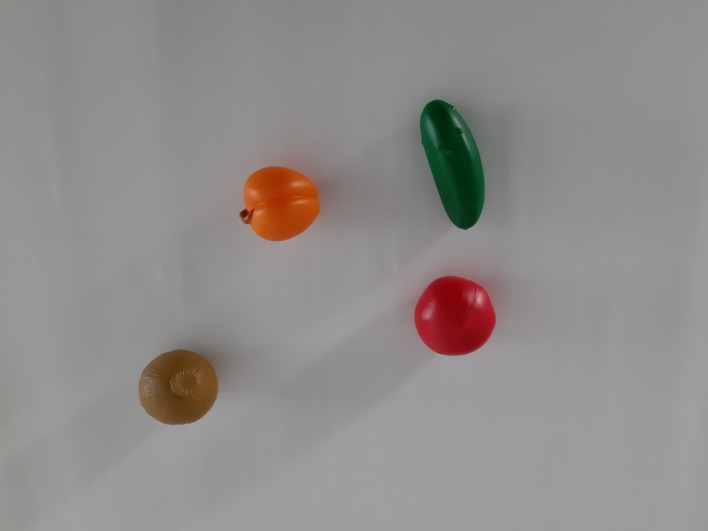apricot: (226, 154, 339, 251)
cucumber: (401, 87, 508, 240)
onion: (116, 337, 237, 445)
tomato: (398, 261, 520, 375)
